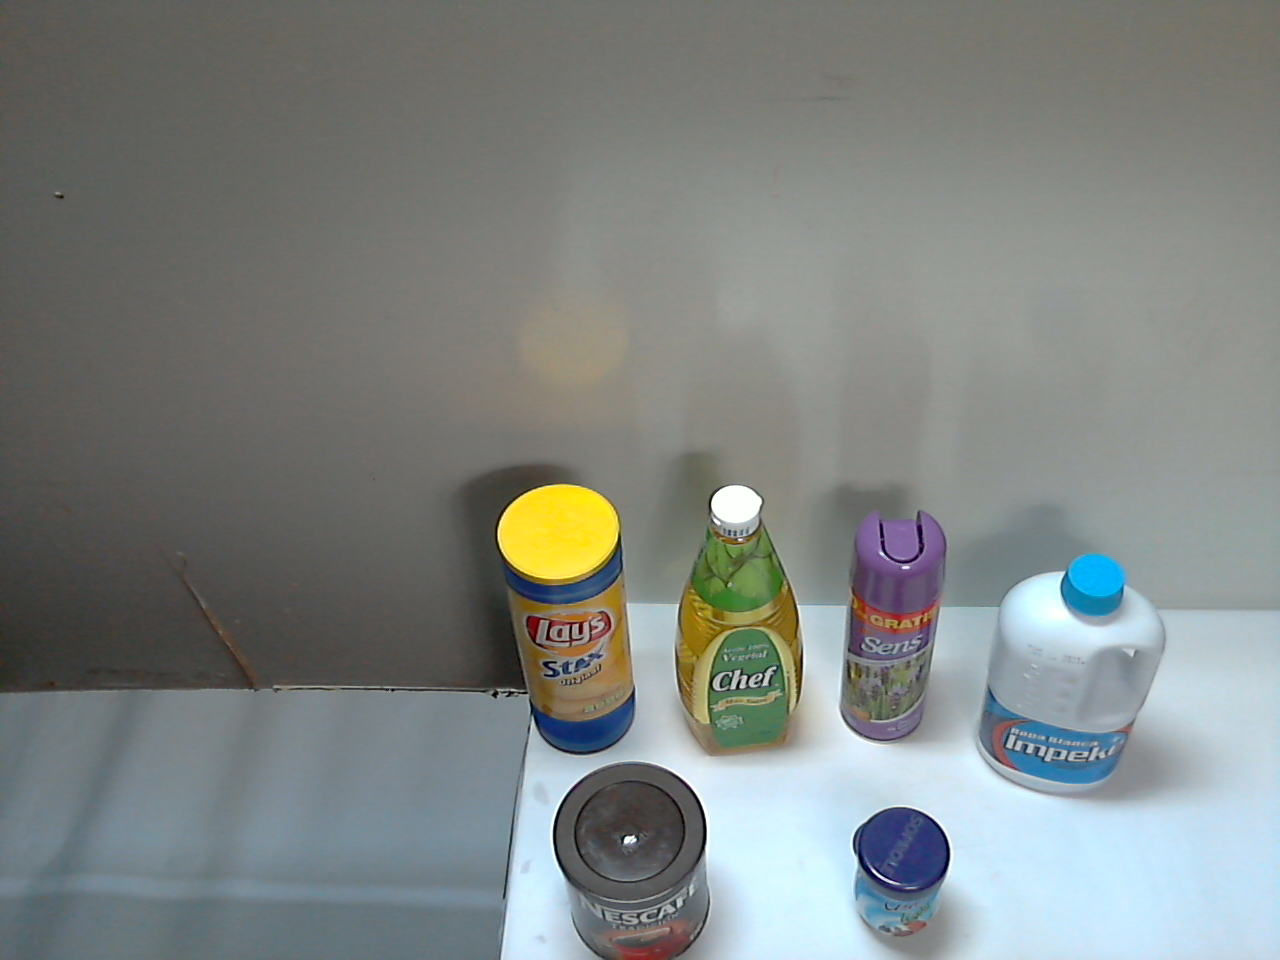esponja: (1074, 735, 1211, 894)
estuche: (732, 622, 973, 760)
greda: (719, 766, 979, 960)
guante: (527, 567, 770, 932)
mostaza: (974, 600, 1082, 767)
platano: (923, 750, 1103, 960)
